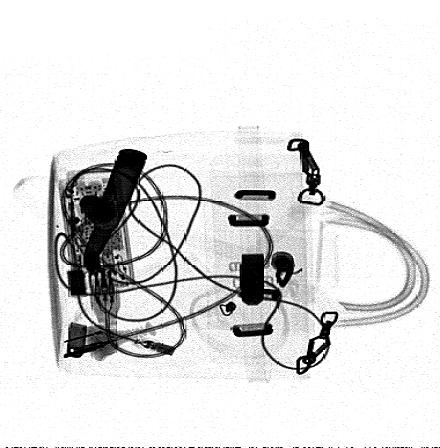Bullet: (81, 147, 149, 270)
